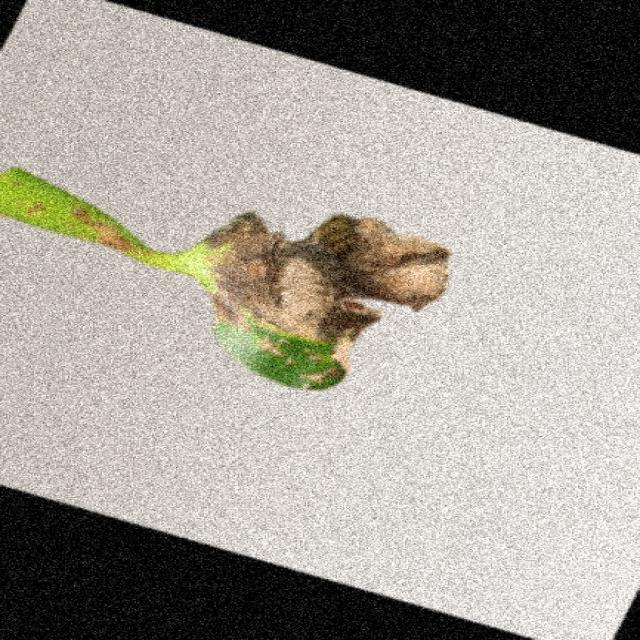daun berpenyakit karat: (2, 168, 450, 389)
